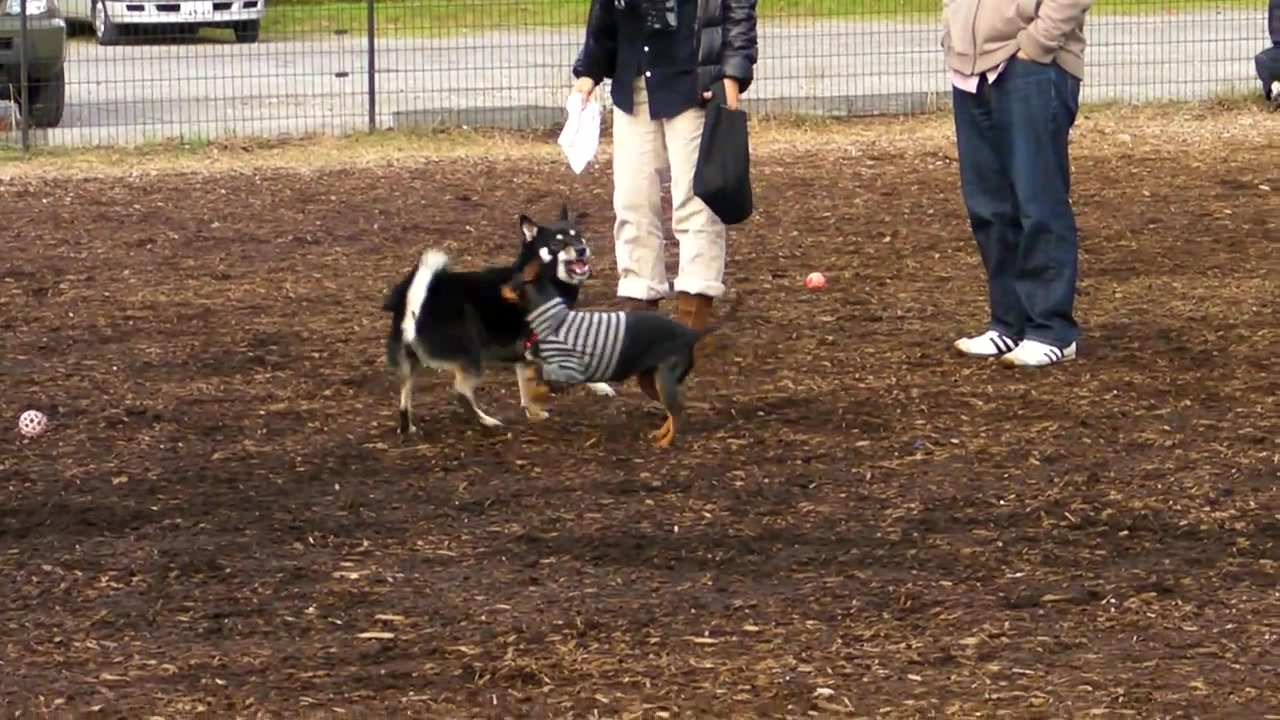dog: (381, 205, 596, 435)
